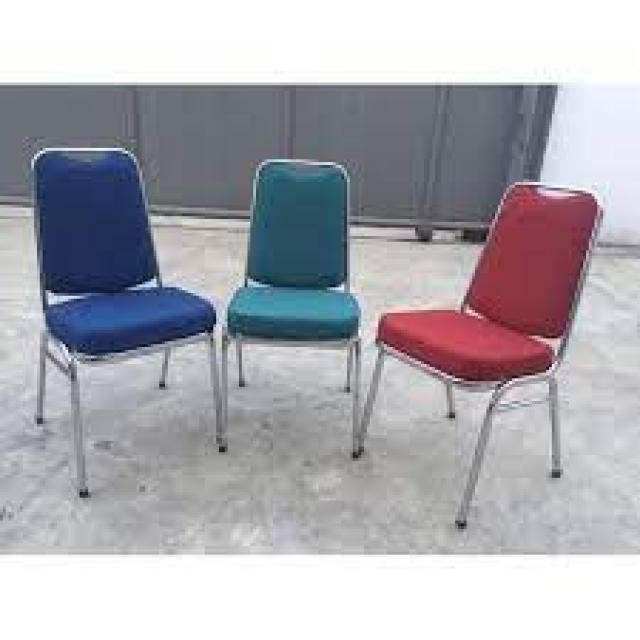chair: (360, 183, 607, 531), (30, 147, 228, 470), (223, 157, 370, 460)
